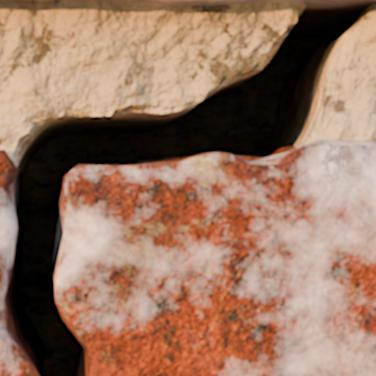brick: (99, 0, 371, 5)
broken_brick: (57, 139, 375, 375), (0, 149, 35, 375)
crack: (1, 0, 375, 375)
